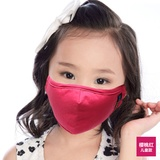face_mask: (48, 35, 119, 132)
